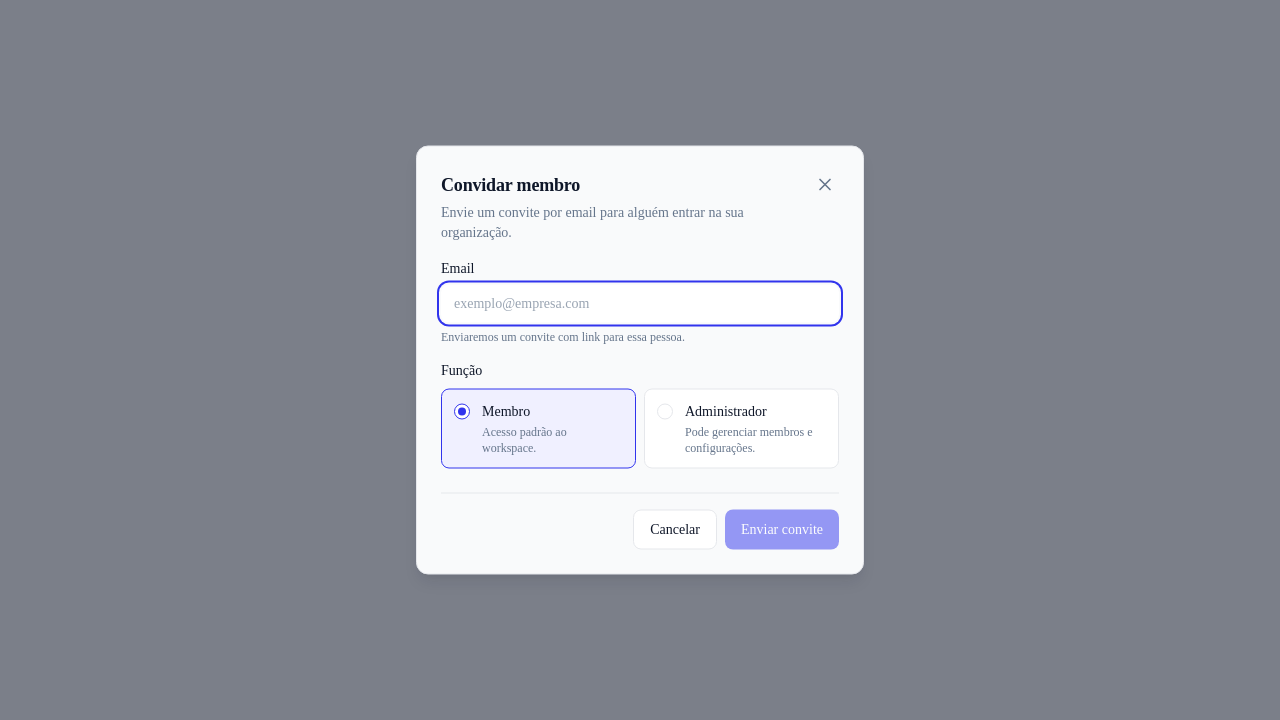
Test: InviteModal — server error mapping › maps invitation_already_pending to an inline field error
Type "bruno@acme.com" into the field labelled "Email" at {"x": 640, "y": 304}, box x1=441 y1=284 x2=839 y2=322
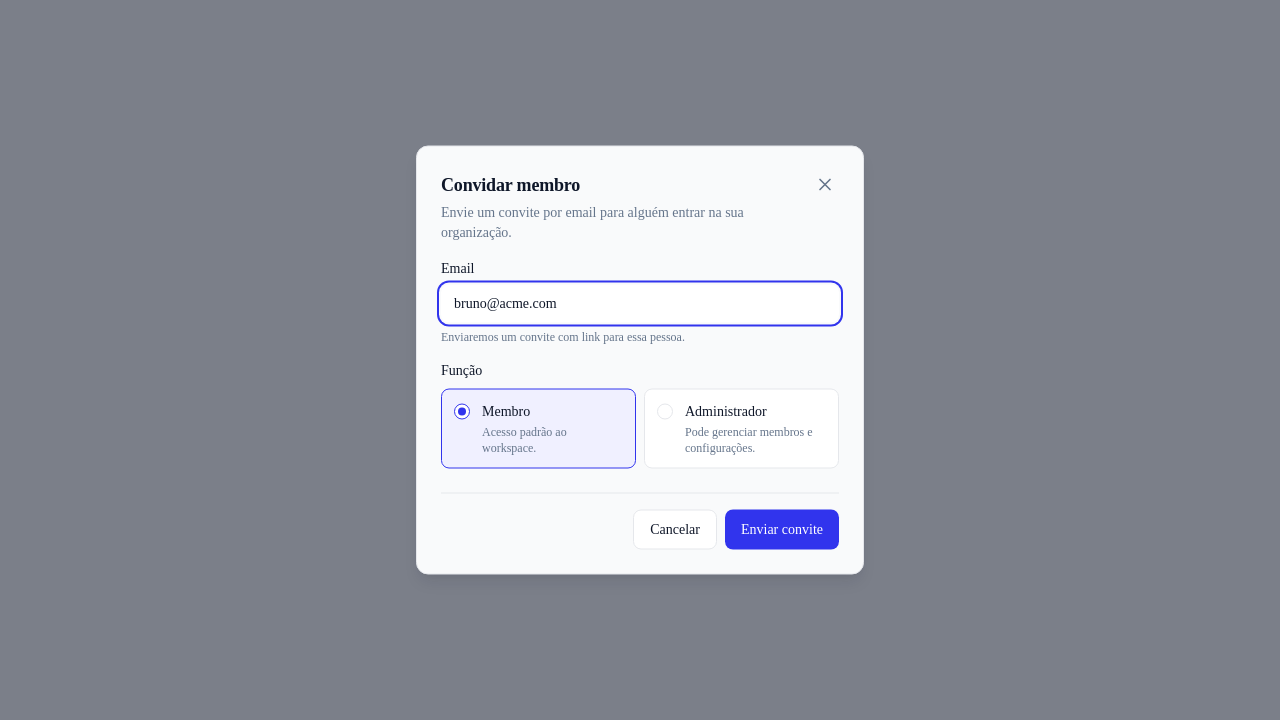
Click the button "Enviar convite" at {"x": 782, "y": 530}, box x1=725 y1=510 x2=839 y2=550
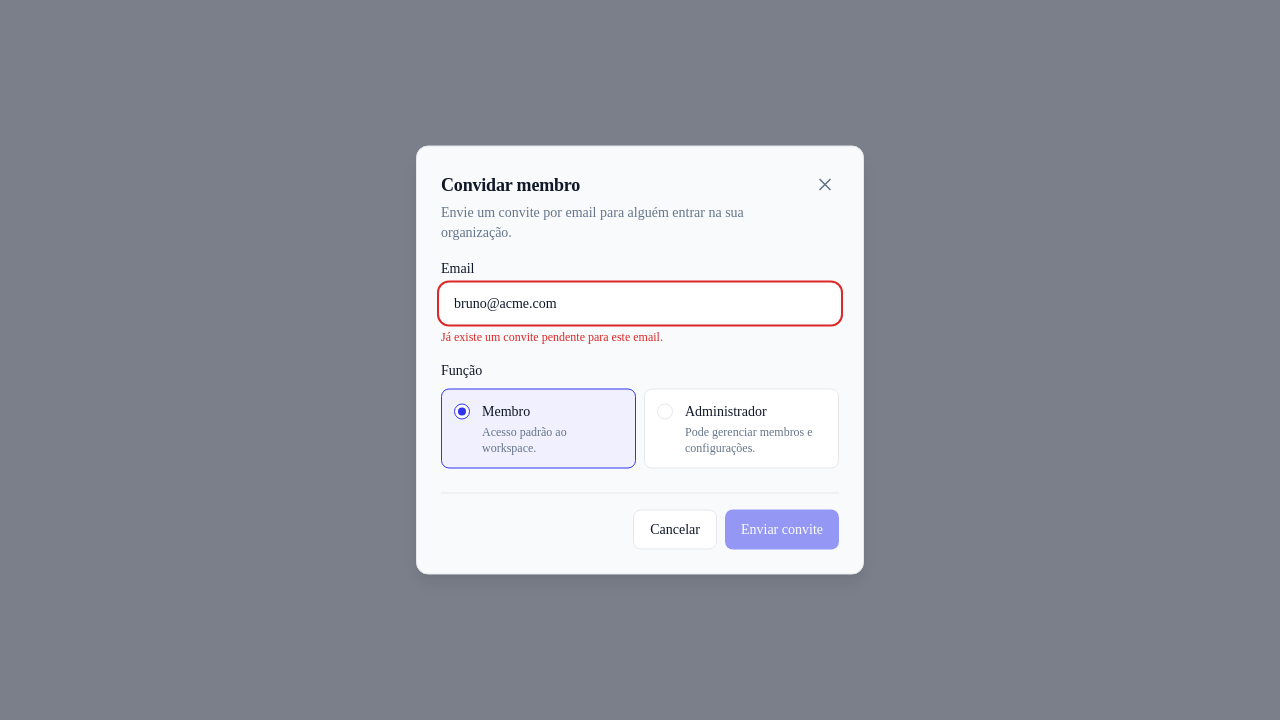
Check: the text "Já existe um convite pendente para este email." is shown, box x1=441 y1=330 x2=663 y2=344
